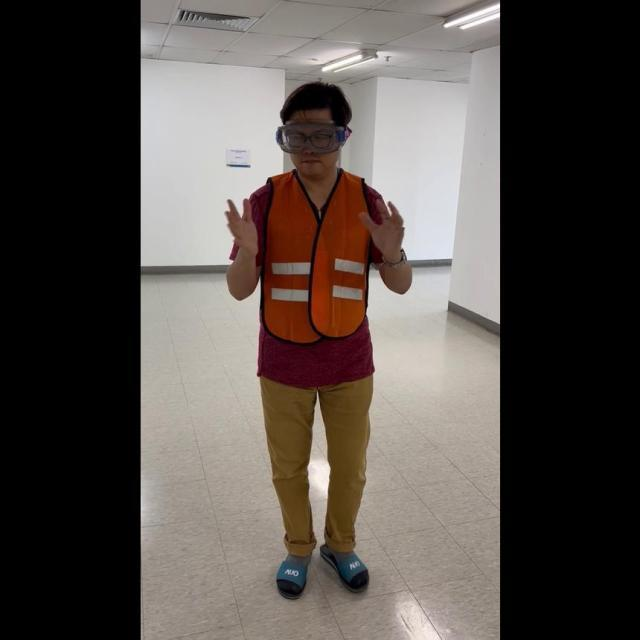bare_hand: (357, 190, 406, 261), (222, 187, 261, 260)
